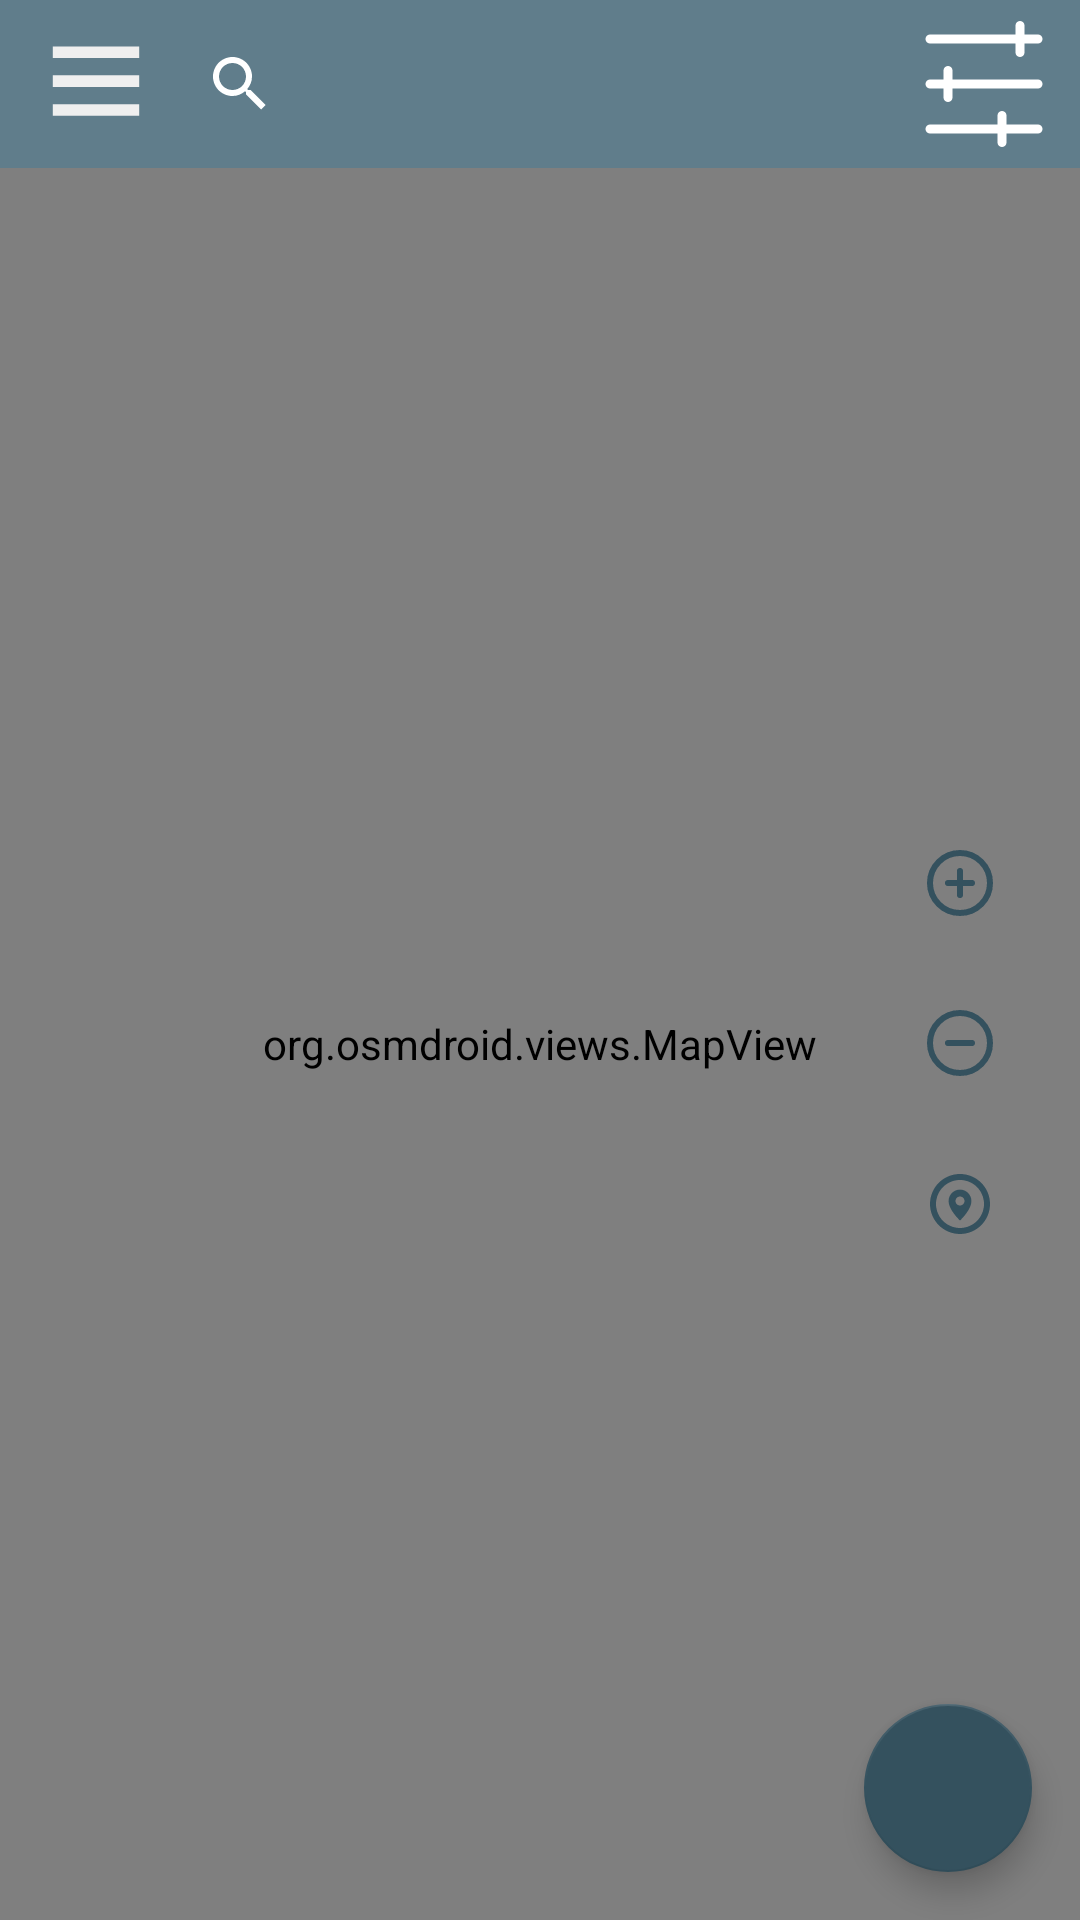

Locate icon controls on the screen. Image size 1080*1920, boxes as (x1, y1, x2, y2).
bytesize options: (925, 21, 1043, 147)
ei navicon: (52, 46, 140, 116)
location: (930, 1174, 990, 1234)
minus: (927, 1010, 993, 1076)
plus: (927, 850, 993, 916)
